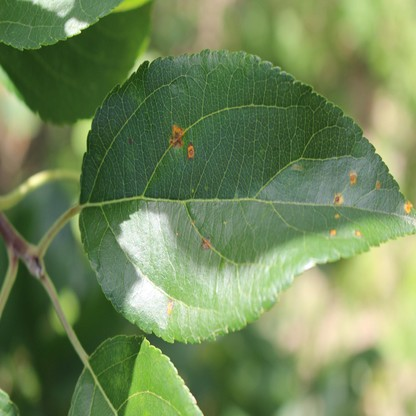powder: (400, 213, 416, 227)
rust: (169, 125, 184, 147), (166, 298, 174, 318), (201, 236, 212, 250), (333, 193, 343, 205), (349, 170, 357, 184), (404, 201, 412, 214), (188, 141, 193, 157), (355, 229, 362, 238), (329, 228, 336, 235), (376, 182, 381, 190), (335, 213, 340, 218), (129, 138, 132, 144)
scab: (108, 345, 134, 389)
